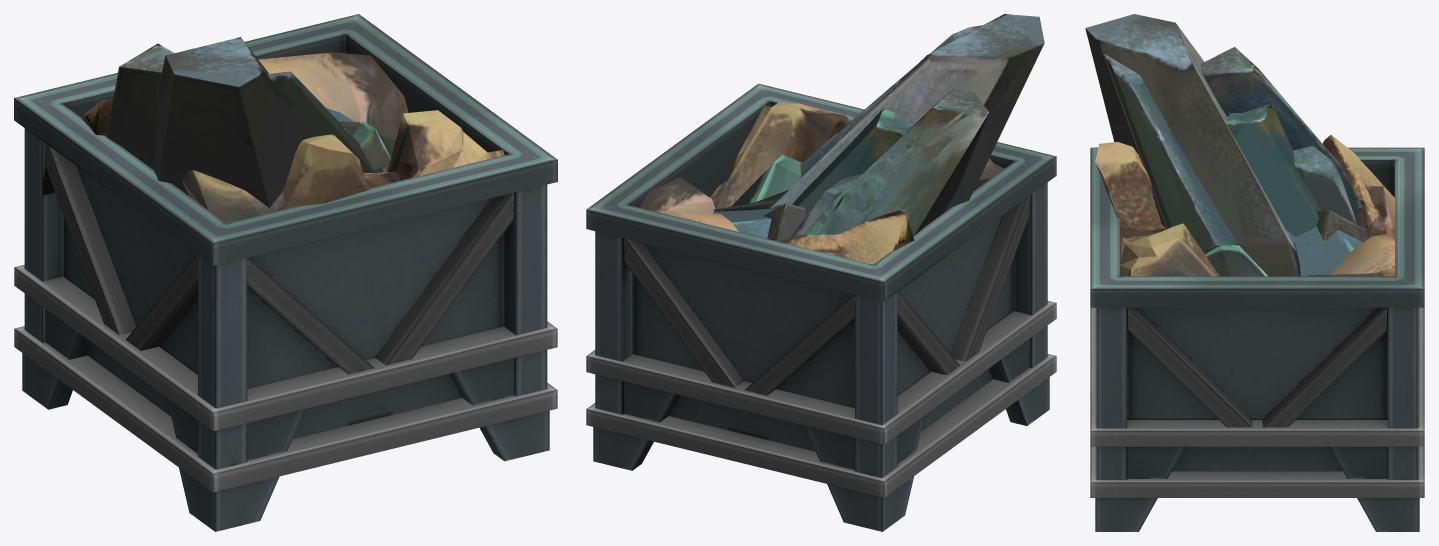
File: S_survive_iron_res.fbx
3 renders of one model, left to right at view 1: azimuth 30°, elevation 25°; view 2: azimuth 150°, elevation 25°; view 3: azimuth 270°, elevation 25°, orthographic. The views are drawn at different scales.
Parts seen in each view (by area): view 1: S_survive_iron_res; view 2: S_survive_iron_res; view 3: S_survive_iron_res.
Boxes of the visible parts, x1,y1,x2,y2 form: S_survive_iron_res: [14, 14, 557, 531]; S_survive_iron_res: [586, 14, 1056, 531]; S_survive_iron_res: [1085, 14, 1424, 531].
Size of the model in its own units: 0.6951 by 0.8298 by 0.6813.
Materials: 1 (1 with a texture image).
